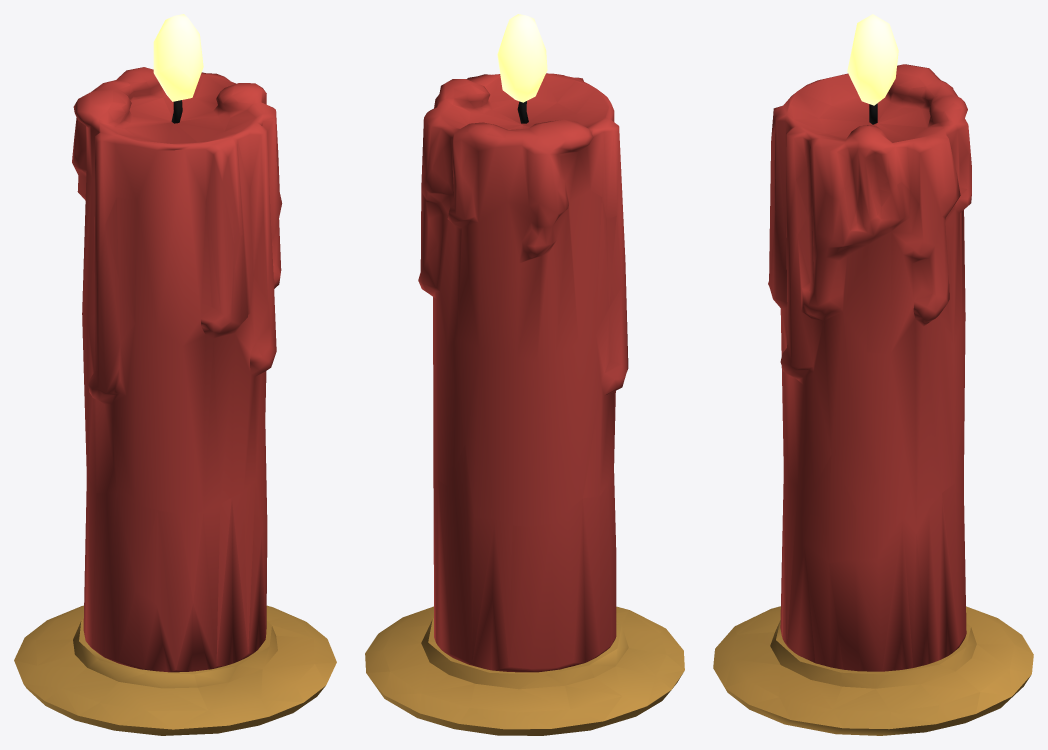
Rendered from frost_candle_great_lod2.glb.
The picture shows the model from 3 angles, left to right: view 1: azimuth 30°, elevation 25°; view 2: azimuth 150°, elevation 25°; view 3: azimuth 270°, elevation 25°; orthographic projection.
Visible parts, largest first — view 1: frost_candle_great.001, flame.001; view 2: frost_candle_great.001, flame.001; view 3: frost_candle_great.001, flame.001.
Boxes of the visible parts, x1=… form: frost_candle_great.001: x1=14, y1=67, x2=336, y2=735; flame.001: x1=153, y1=14, x2=203, y2=101; frost_candle_great.001: x1=365, y1=73, x2=684, y2=735; flame.001: x1=497, y1=14, x2=547, y2=102; frost_candle_great.001: x1=713, y1=64, x2=1033, y2=735; flame.001: x1=847, y1=14, x2=898, y2=105.
Size of the model in its own units: 24.94 by 56.3 by 24.94.
